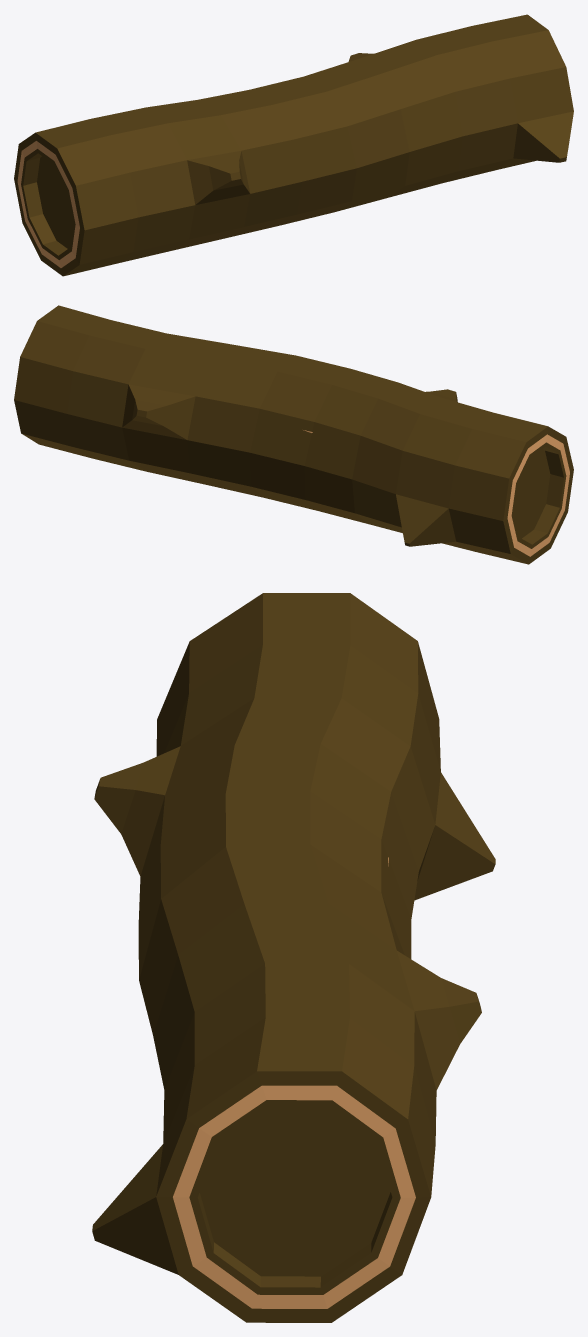
File: TroncoLago.fbx
3 renders of one model, top to bottom at view 1: azimuth 30°, elevation 25°; view 2: azimuth 150°, elevation 25°; view 3: azimuth 270°, elevation 25°, orthographic. The views are drawn at different scales.
Parts seen in each view (by area): view 1: Cylinder.003; view 2: Cylinder.003; view 3: Cylinder.003.
Boxes of the visible parts, x1,y1,x2,y2 form: Cylinder.003: (14,14,573,276); Cylinder.003: (14,305,573,564); Cylinder.003: (92,593,495,1322).
Size of the model in its own units: 197 by 48.31 by 70.12.
